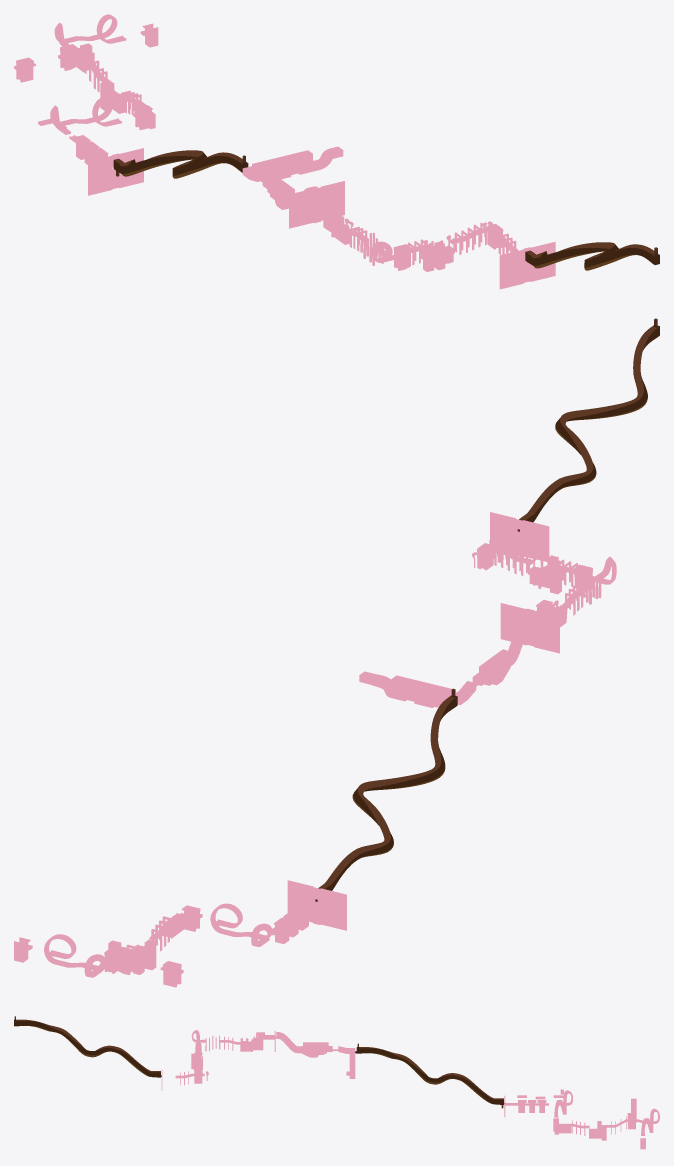
The model's file is ColSmooth.obj.
The picture shows the model from 3 angles, top to bottom: view 1: azimuth 30°, elevation 25°; view 2: azimuth 150°, elevation 25°; view 3: azimuth 270°, elevation 25°; orthographic projection. The views are drawn at different scales.
Bounding box in the file's own units: 4496 × 5120 × 22840.
6 materials, 6 textured.
